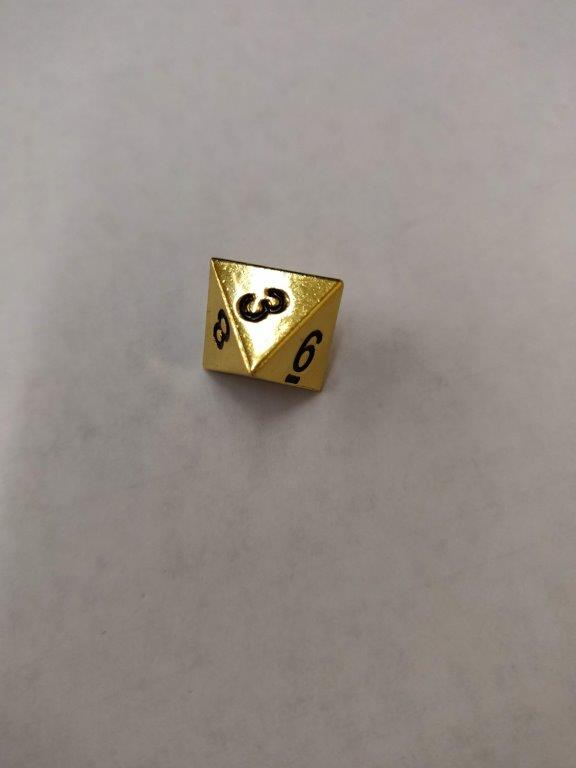d8-3: (199, 254, 345, 395)
